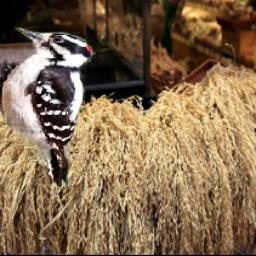Woodpecker: (0, 27, 95, 189)
